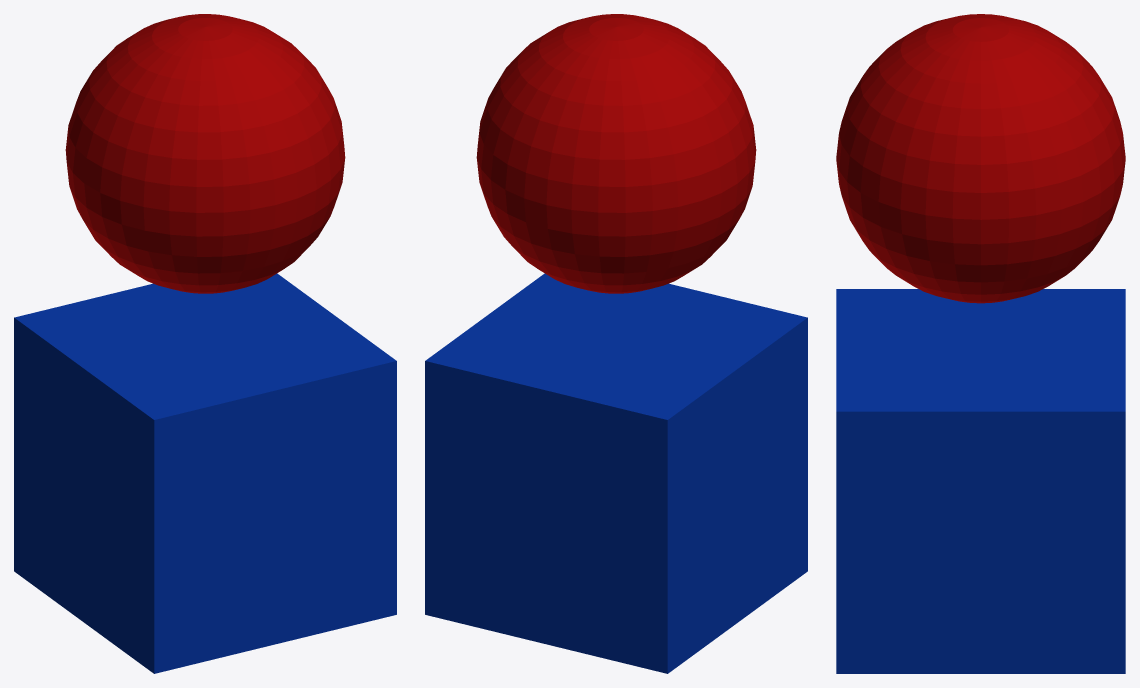
File: gaarding.obj
3 views of the same model, side by side, from view 1: azimuth 30°, elevation 25°; view 2: azimuth 150°, elevation 25°; view 3: azimuth 270°, elevation 25° (orthographic). The views are drawn at different scales.
Parts seen in each view (by area): view 1: Cube_Cube.001, Sphere.002; view 2: Cube_Cube.001, Sphere.002; view 3: Cube_Cube.001, Sphere.002.
Part boxes in pixels (bbox=[...]): Cube_Cube.001: bbox=[14, 273, 396, 673]; Sphere.002: bbox=[65, 14, 345, 293]; Cube_Cube.001: bbox=[425, 273, 807, 673]; Sphere.002: bbox=[476, 14, 756, 293]; Cube_Cube.001: bbox=[836, 289, 1125, 673]; Sphere.002: bbox=[836, 14, 1125, 303].
Bounding box in the file's own units: 0.9251 × 2.06 × 0.9251.
